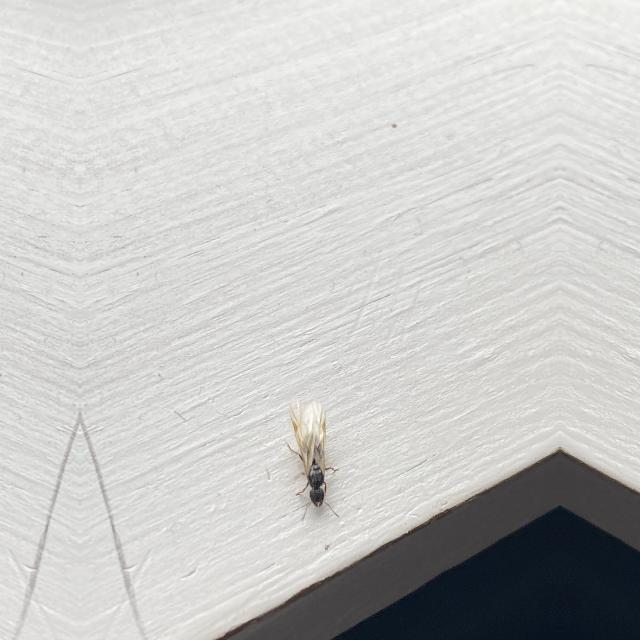Camponotus: (280, 392, 346, 520)
